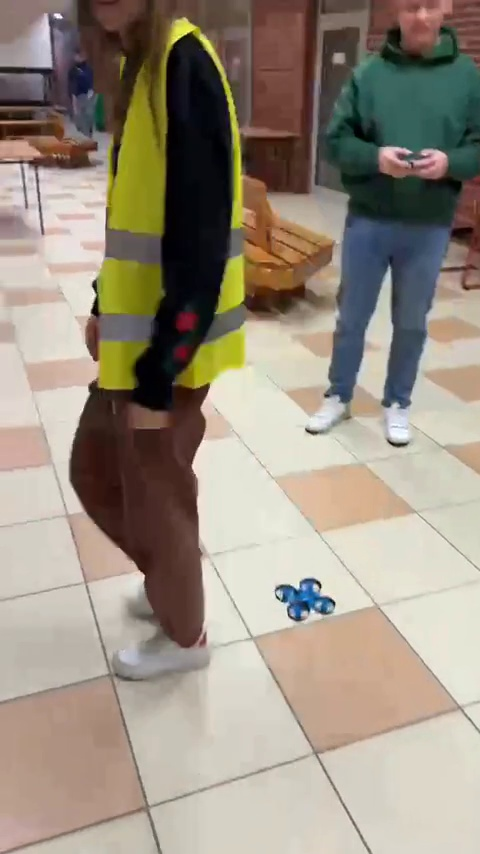drone: (277, 577, 330, 620)
no vest: (319, 1, 473, 449), (60, 48, 101, 147)
vest: (68, 0, 248, 668)
